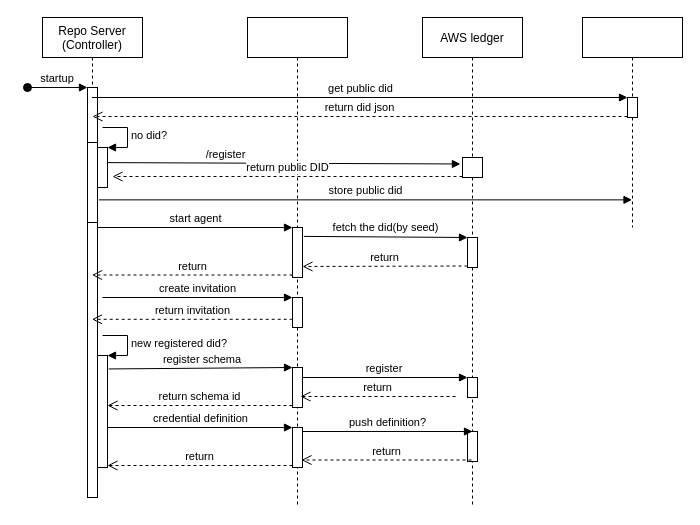
This 700x525 diagram has some shape labels left out. Here are the shapes that lost their labels. From the top down, the box of each, then its label:
(582, 16, 682, 228): AWS S3
(246, 16, 348, 508): Repo Agent
